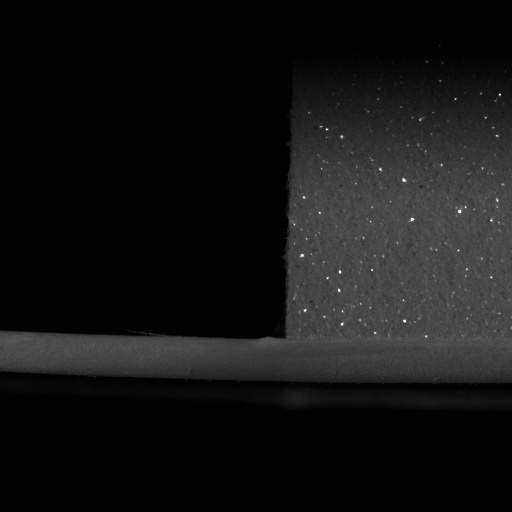changdai: (0, 332, 289, 384)
